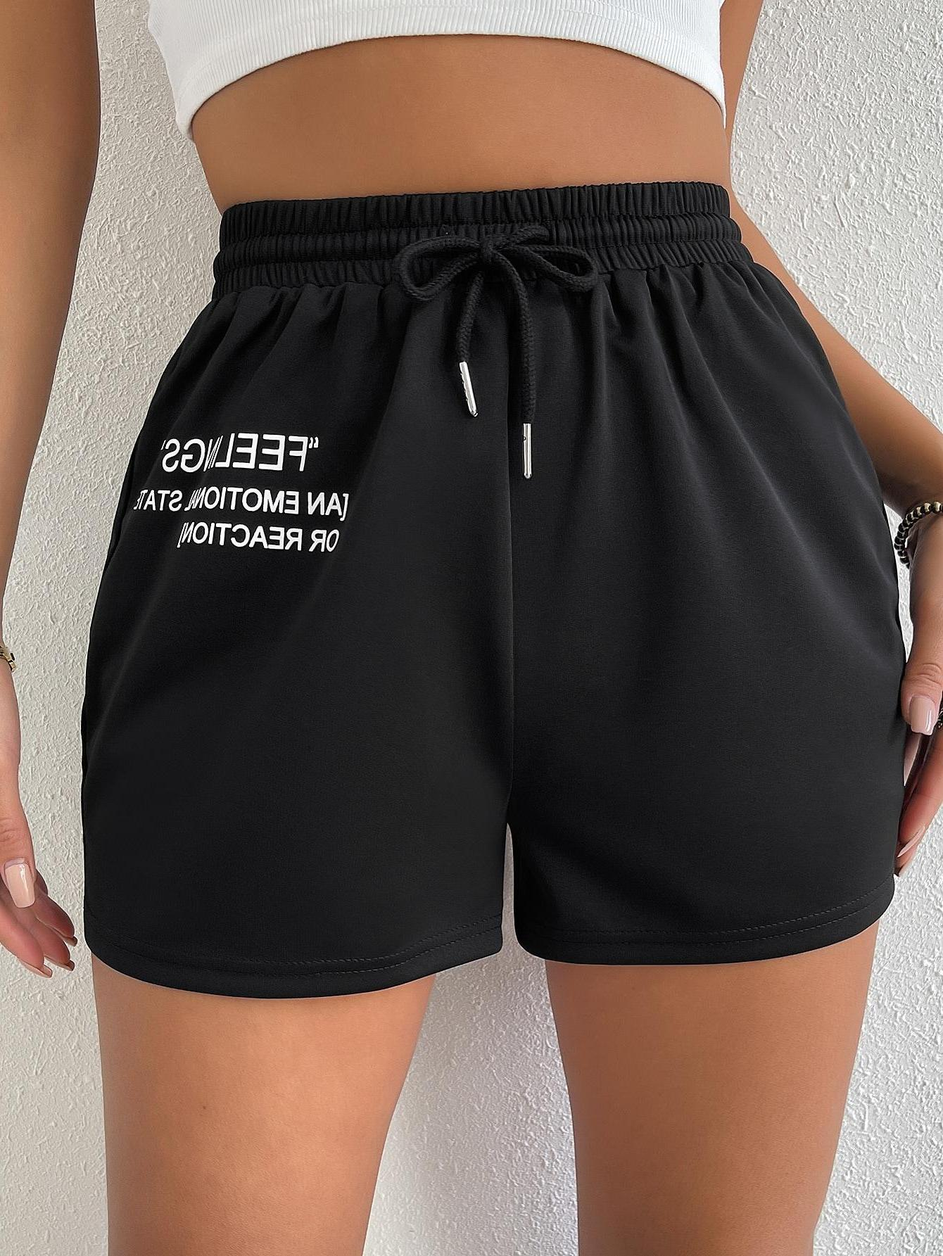Shorts: (65, 166, 925, 1010)
vest: (133, 0, 728, 137)
